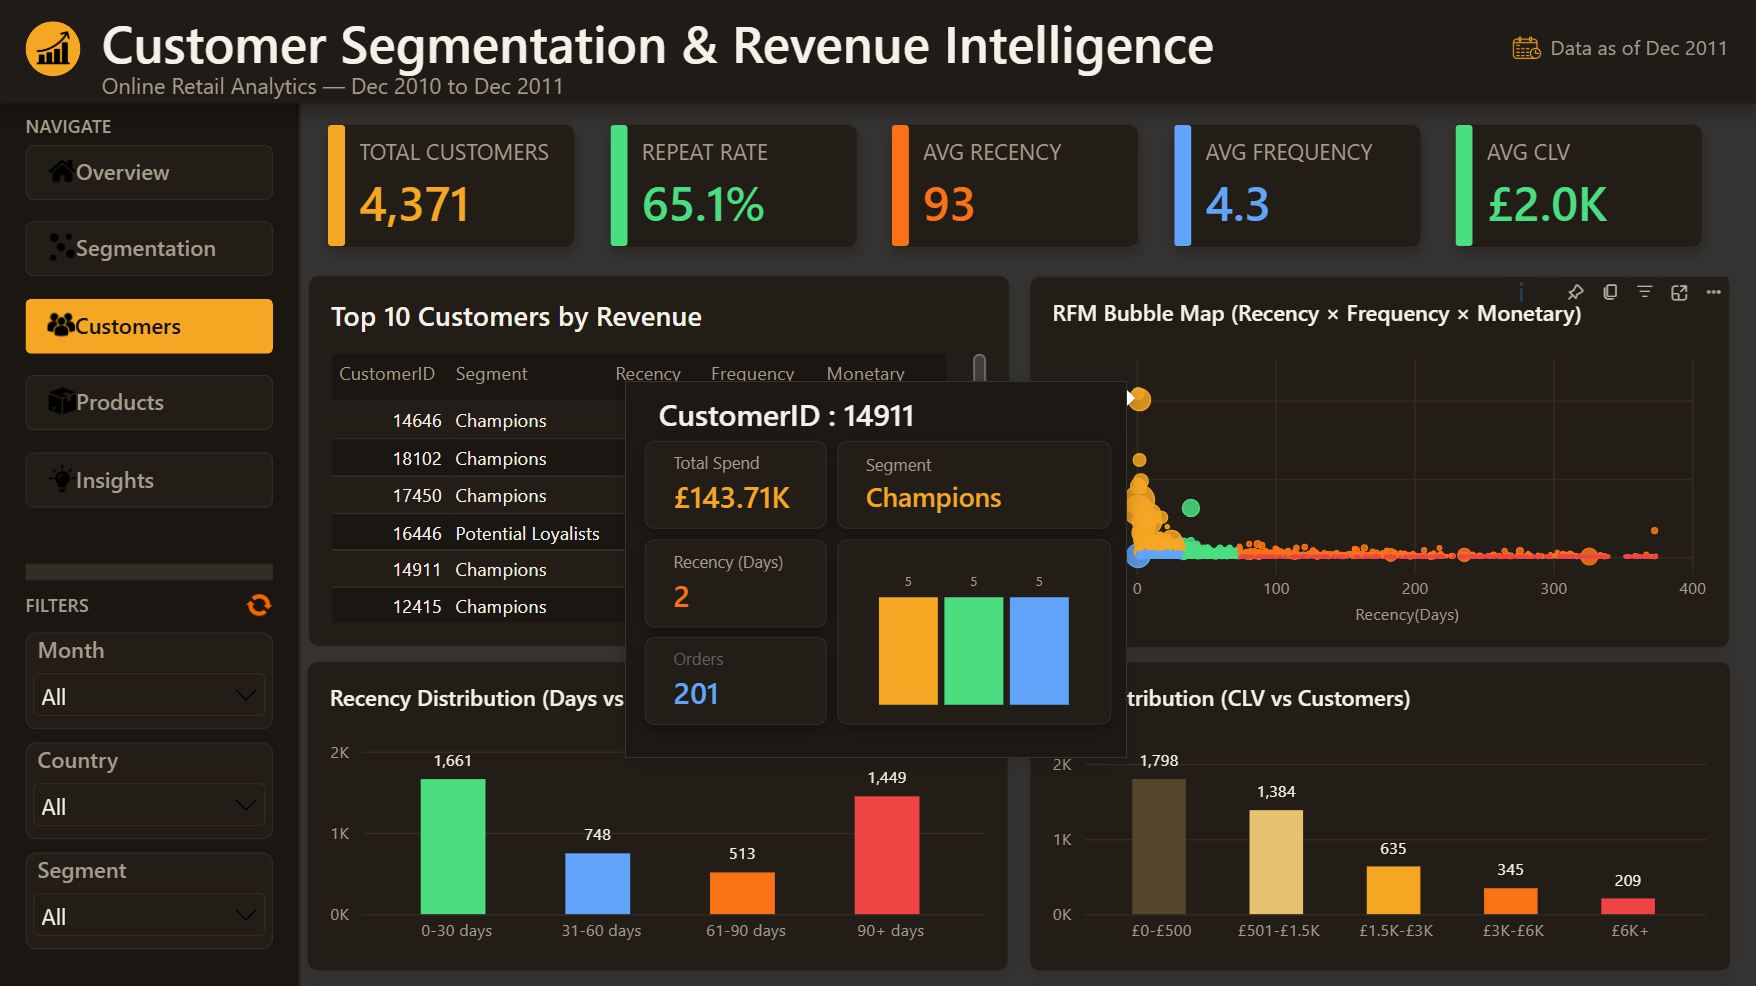

Layout of this report page (visuals, bound fields, positions):
{"tool":"powerbi","page":{"name":"Dashboard","canvas":[1280,720],"ordinal":0},"visuals":[{"type":"shape","box":[0,70,220,650],"z":0},{"type":"shape","box":[0,0,1280,75],"z":1000},{"type":"textbox","box":[75,5,830,51.5],"z":2000},{"type":"shape","box":[20,15,40,40],"z":3000},{"type":"image","box":[28,23,24,24],"z":4000},{"type":"textbox","box":[75,51,700,27],"z":5000},{"type":"image","box":[1100,23,24,24],"z":6000},{"type":"textbox","box":[1129,24,145,25],"z":7000},{"type":"shape","box":[20,410,180,12],"z":8000},{"type":"textbox","box":[20,82,180,19],"z":9000},{"type":"textbox","box":[20,430,180,19],"z":10000},{"type":"actionButton","title":"Btn_Insights_Default","box":[20,329,180,40],"z":12000},{"type":"actionButton","title":"Btn_Segmentation_Default","box":[20,161,180,40],"z":13000},{"type":"actionButton","title":"Btn_Customers_Default","box":[20,217,180,40],"z":14000},{"type":"actionButton","title":"Btn_Products_Default","box":[20,273,180,40],"z":15000},{"type":"actionButton","title":"Btn_Overview_Active","box":[20,105.5,180,40],"z":16000},{"type":"slicer","fields":{"Values":["Dim_Date.MonthName"]},"box":[20.2,460,180,70],"z":23000},{"type":"cardVisual","title":"KPI_Overview_TotalRevenue","fields":{"Data":["_Measures.Total_Revenue"]},"box":[240,90,180,90],"z":24000},{"type":"cardVisual","title":"KPI_Overview_TotalOrders","fields":{"Data":["_Measures.Total_Orders"]},"box":[445,90,180,90],"z":25000},{"type":"cardVisual","title":"KPI_Overview_TotalCustomers","fields":{"Data":["_Measures.Total_Customers"]},"box":[650,90,180,90],"z":26000},{"type":"cardVisual","title":"KPI_Overview_ChurnRate","fields":{"Data":["_Measures.Churn_Rate%"]},"box":[855,90,180,90],"z":27000},{"type":"cardVisual","title":"KPI_Overview_AvgCLV","fields":{"Data":["_Measures.Average_CLV"]},"box":[1060,90,180,90],"z":28000},{"type":"shape","title":"Overview_Strip1","box":[240.5,91,12.5,88],"z":29000},{"type":"shape","title":"Overview_Strip2","box":[445,91,12.5,88],"z":30000},{"type":"shape","title":"Overview_Strip4","box":[855,91,12.5,88],"z":31000},{"type":"shape","title":"Overview_Strip5","box":[1060,91,12.5,88],"z":32000},{"type":"shape","title":"Overview_Strip3","box":[650,91,12.5,88],"z":33000},{"type":"areaChart","title":"Revenue Trend by Month","fields":{"Category":["Dim_Date.MonthName"],"Y":["_Measures.Total_Revenue"]},"box":[225,200,515,260],"z":34000},{"type":"clusteredBarChart","title":"Top 10 Countries by Revenue","fields":{"Category":["Dim_Countries.Country"],"Y":["_Measures.Total_Revenue"]},"box":[750,200,510,260],"z":35000},{"type":"donutChart","title":"Revenue by Segment","fields":{"Category":["Dim_Customers.Segment"],"Y":["_Measures.Total_Revenue"]},"box":[225,476.1,333,215],"z":36000},{"type":"clusteredColumnChart","title":"Orders: Weekday vs Weekend","fields":{"Category":["Dim_Date.Day Type"],"Y":["_Measures.Total_Orders"]},"box":[926.3,476.1,333.3,215],"z":37000},{"type":"lineChart","title":"Return Rate by Month","fields":{"Category":["Dim_Date.MonthName"],"Y":["_Measures.Return_Rate"]},"box":[568,476.1,348,215],"z":38000},{"type":"image","box":[180.3,429.9,20,20],"z":102000},{"type":"slicer","fields":{"Values":["Dim_Countries.Country"]},"box":[20.4,540,180,70],"z":102500},{"type":"slicer","fields":{"Values":["Dim_Customers.Segment"]},"box":[20.4,620,180,70],"z":103000}]}

Visuals, with their boxes in screenshot pixels (x1, y1, x2, y2), scaled from the page's 1280x720 canvas onto the 1756x986 screenshot:
shape: left=0, top=96, right=302, bottom=985
shape: left=0, top=0, right=1755, bottom=103
textbox: left=103, top=7, right=1242, bottom=77
shape: left=27, top=21, right=82, bottom=75
image: left=38, top=31, right=71, bottom=64
textbox: left=103, top=70, right=1063, bottom=107
image: left=1509, top=31, right=1542, bottom=64
textbox: left=1549, top=33, right=1748, bottom=67
shape: left=27, top=561, right=274, bottom=578
textbox: left=27, top=112, right=274, bottom=138
textbox: left=27, top=589, right=274, bottom=615
"Btn_Insights_Default" actionButton: left=27, top=451, right=274, bottom=505
"Btn_Segmentation_Default" actionButton: left=27, top=220, right=274, bottom=275
"Btn_Customers_Default" actionButton: left=27, top=297, right=274, bottom=352
"Btn_Products_Default" actionButton: left=27, top=374, right=274, bottom=429
"Btn_Overview_Active" actionButton: left=27, top=144, right=274, bottom=199
slicer - Dim_Date.MonthName: left=28, top=630, right=275, bottom=726
"KPI_Overview_TotalRevenue" cardVisual: left=329, top=123, right=576, bottom=246
"KPI_Overview_TotalOrders" cardVisual: left=610, top=123, right=857, bottom=246
"KPI_Overview_TotalCustomers" cardVisual: left=892, top=123, right=1139, bottom=246
"KPI_Overview_ChurnRate" cardVisual: left=1173, top=123, right=1420, bottom=246
"KPI_Overview_AvgCLV" cardVisual: left=1454, top=123, right=1701, bottom=246
"Overview_Strip1" shape: left=330, top=125, right=347, bottom=245
"Overview_Strip2" shape: left=610, top=125, right=628, bottom=245
"Overview_Strip4" shape: left=1173, top=125, right=1190, bottom=245
"Overview_Strip5" shape: left=1454, top=125, right=1471, bottom=245
"Overview_Strip3" shape: left=892, top=125, right=909, bottom=245
"Revenue Trend by Month" areaChart: left=309, top=274, right=1015, bottom=630
"Top 10 Countries by Revenue" clusteredBarChart: left=1029, top=274, right=1729, bottom=630
"Revenue by Segment" donutChart: left=309, top=652, right=766, bottom=946
"Orders: Weekday vs Weekend" clusteredColumnChart: left=1271, top=652, right=1728, bottom=946
"Return Rate by Month" lineChart: left=779, top=652, right=1257, bottom=946
image: left=247, top=589, right=275, bottom=616
slicer - Dim_Countries.Country: left=28, top=740, right=275, bottom=835
slicer - Dim_Customers.Segment: left=28, top=849, right=275, bottom=945
